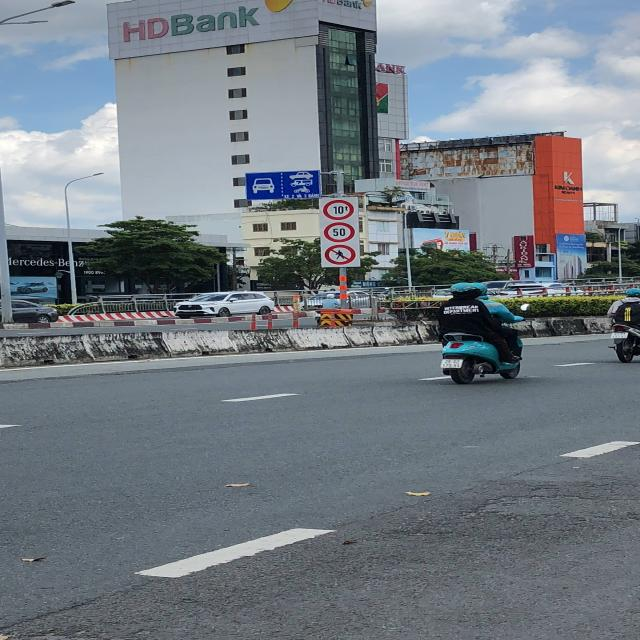Bien bao cam nguoi di bo: (322, 243, 359, 266)
Bien bao toc do toi da cho phep: (322, 222, 357, 243)
